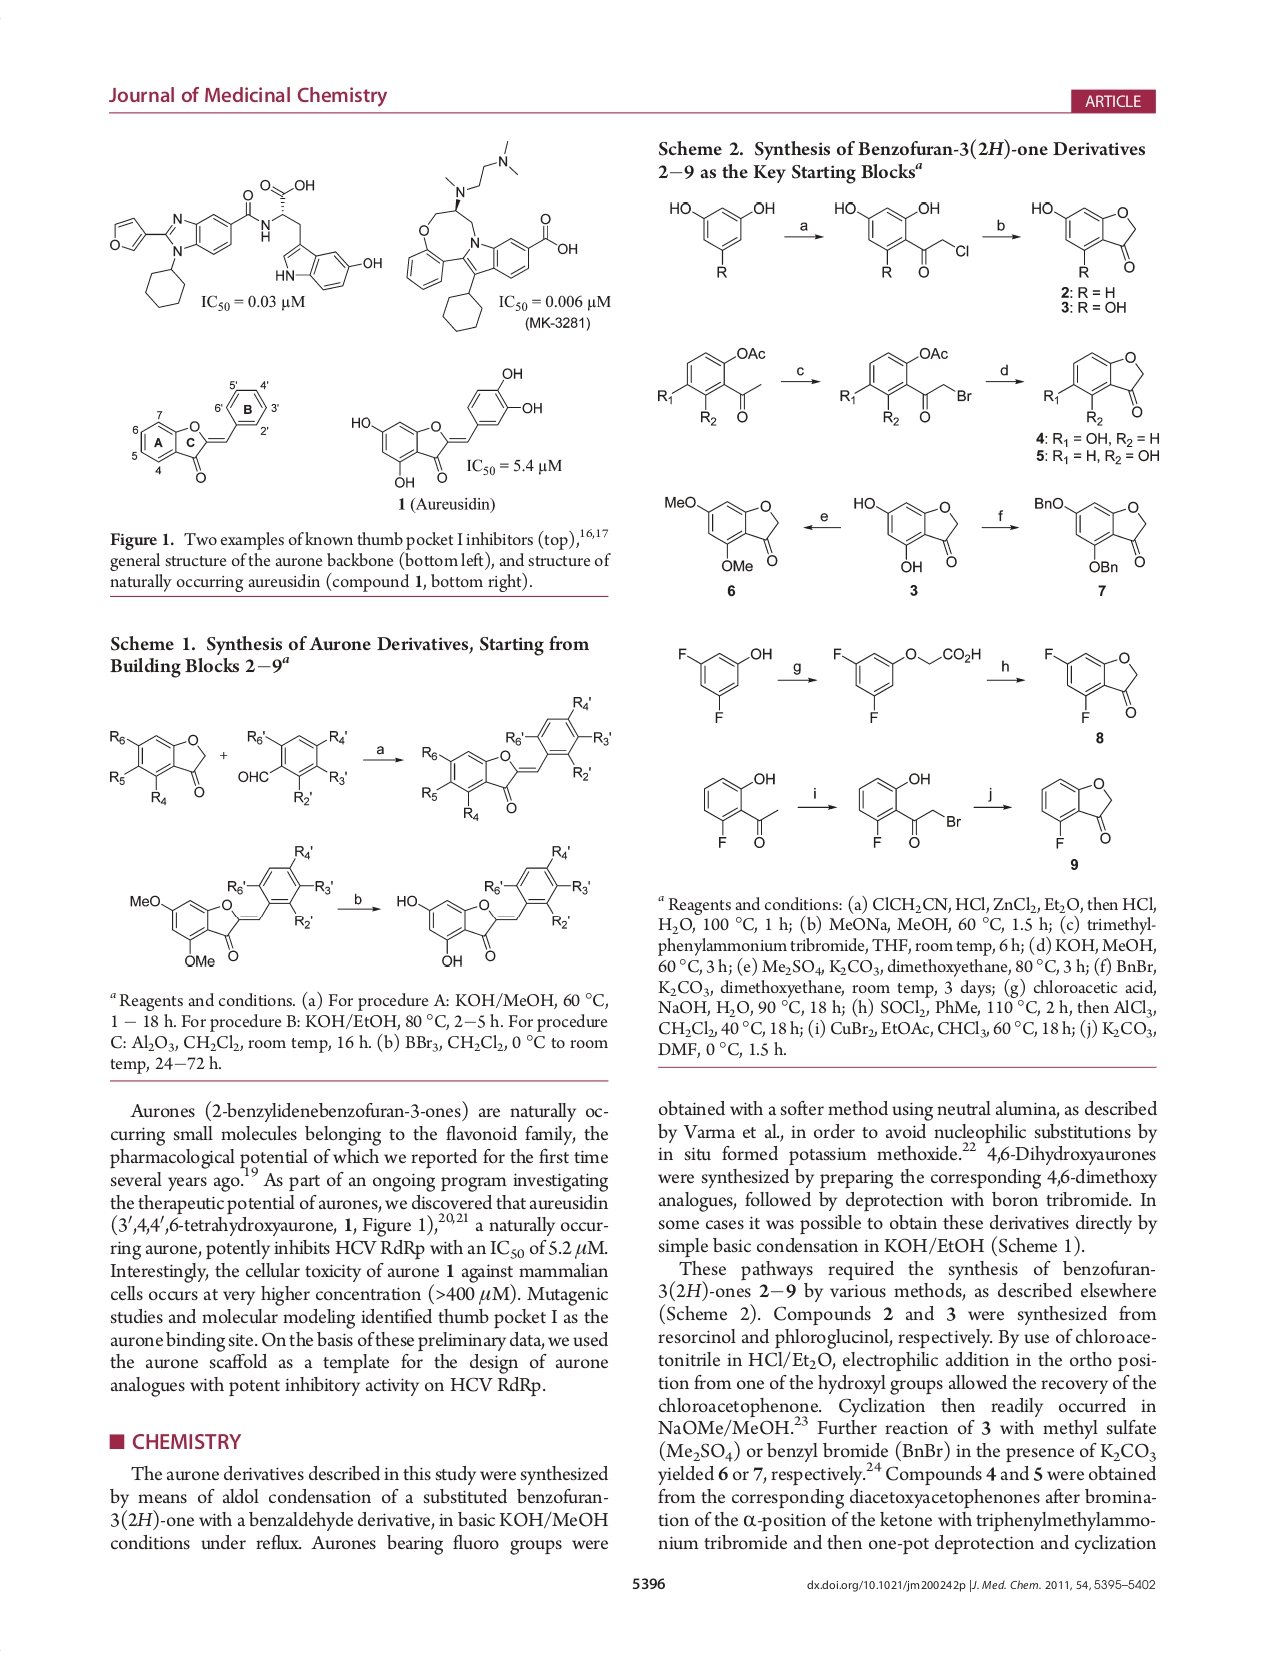exist_molecular: (108, 177, 383, 310), (403, 140, 580, 334), (126, 842, 334, 969), (394, 843, 593, 969), (348, 363, 545, 491), (419, 693, 610, 823), (828, 640, 985, 725), (137, 386, 269, 484), (831, 194, 973, 285), (836, 344, 973, 428), (1027, 491, 1156, 577), (661, 489, 783, 576), (662, 193, 778, 282), (233, 723, 352, 809), (652, 344, 770, 430), (668, 638, 775, 726), (1029, 197, 1138, 283), (854, 769, 965, 852), (848, 492, 961, 575), (1039, 344, 1148, 427), (102, 725, 209, 809), (1039, 641, 1141, 727), (698, 769, 783, 851), (1031, 774, 1117, 852)
